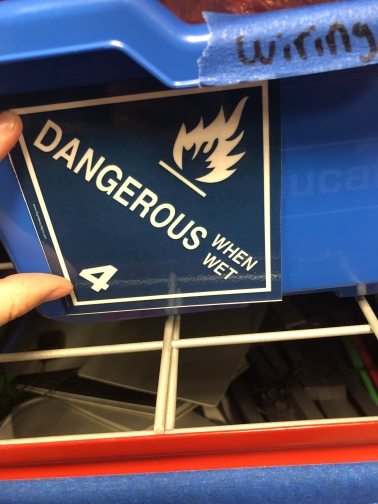DangerousWhenWet: (2, 79, 283, 317)
